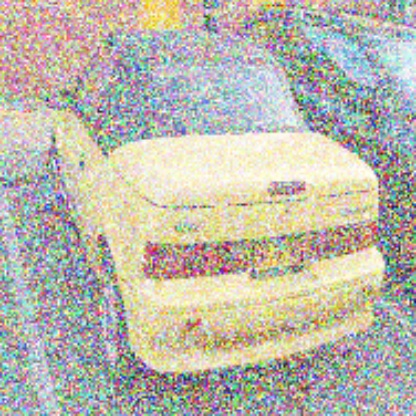Vehicle: (44, 32, 385, 378)
